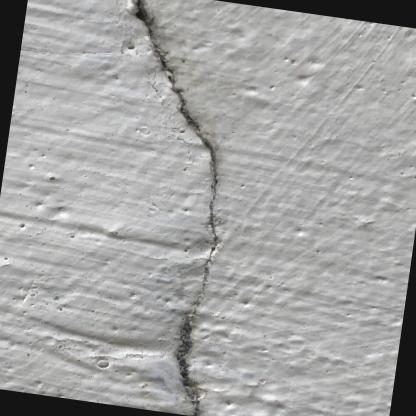crack: (132, 0, 219, 416)
